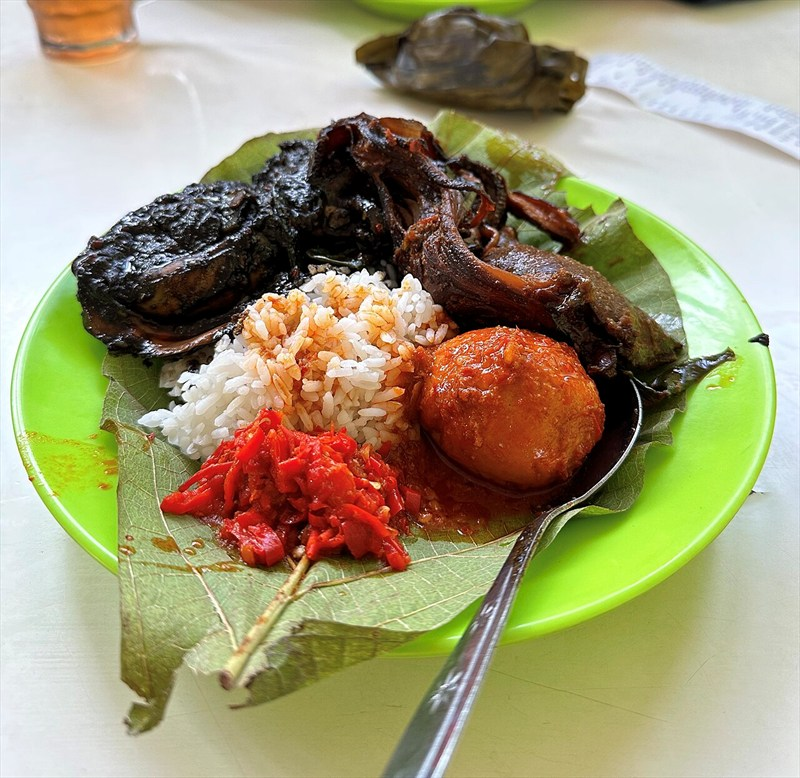Telur Balado: (102, 109, 673, 591)
